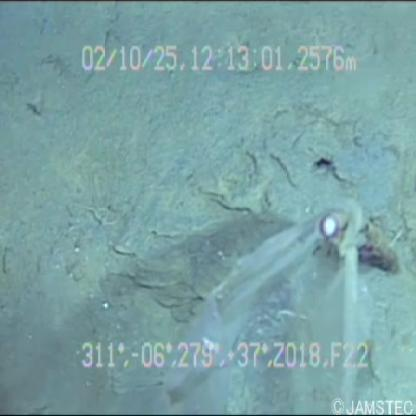Rác: (146, 187, 368, 416)
